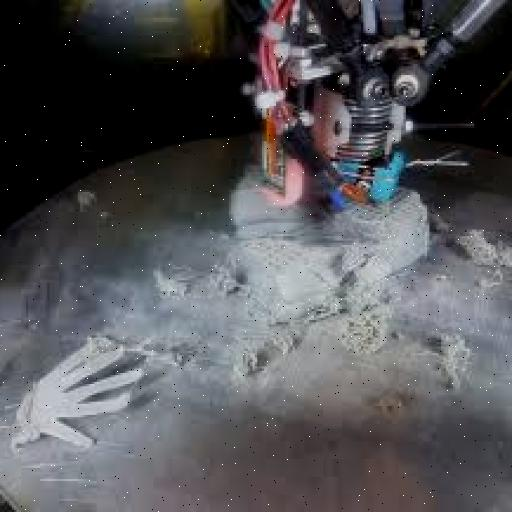spaghetti: (208, 284, 402, 380), (128, 222, 230, 314), (78, 324, 174, 378), (422, 324, 481, 407), (442, 214, 500, 283)
